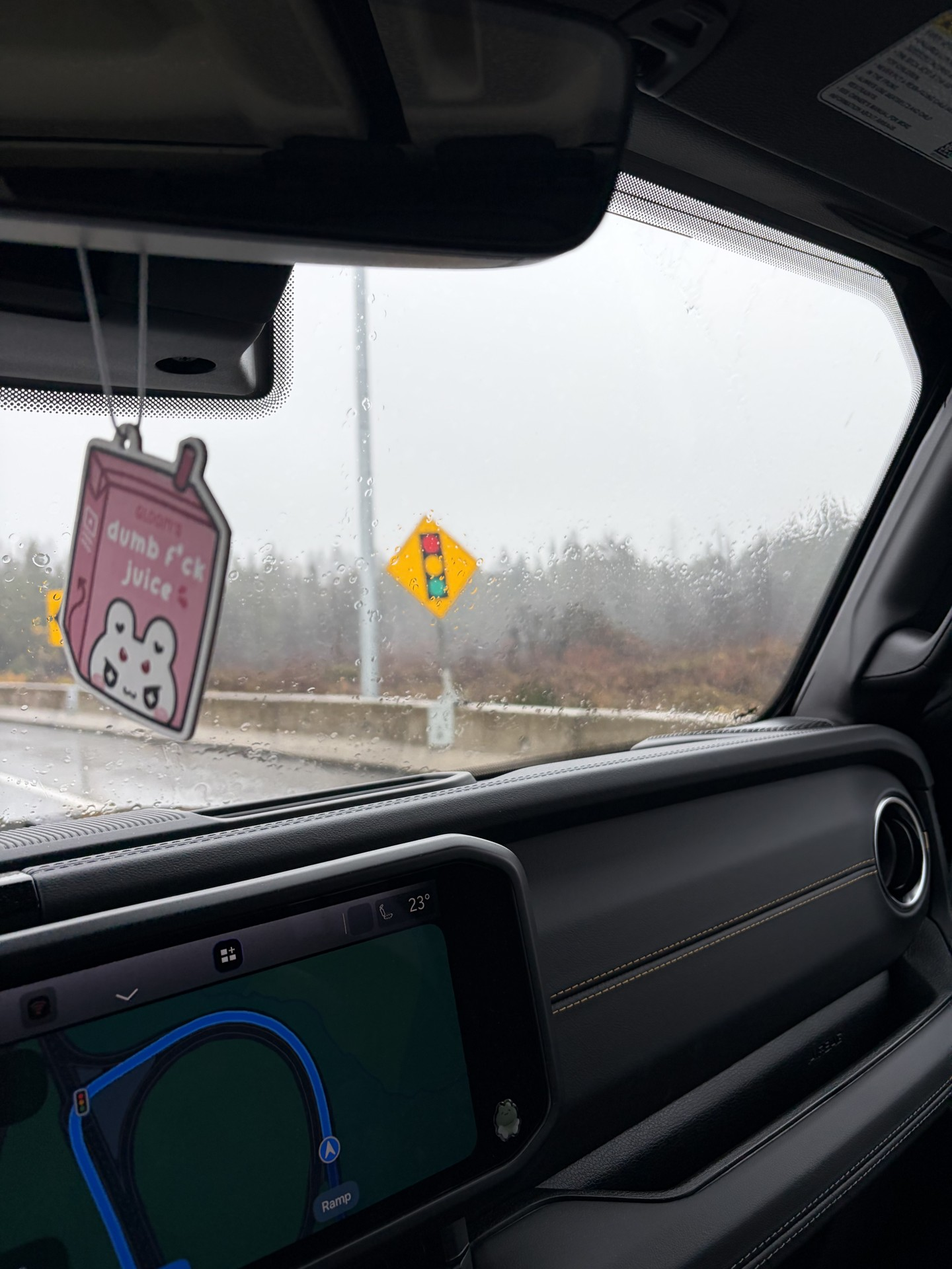signal_ahead: (342, 468, 491, 646)
